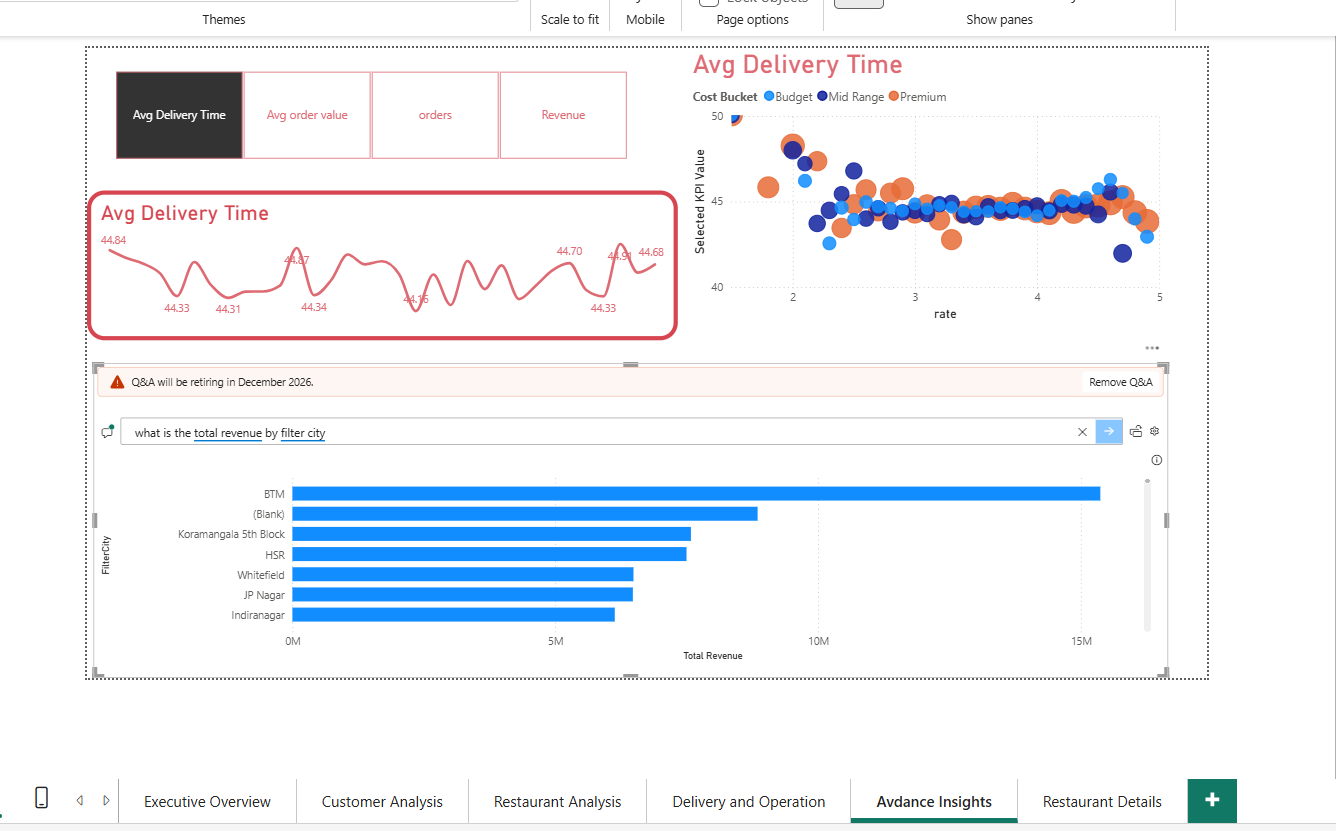

This screenshot's page, from the dashboard's own definition file:
{"tool":"powerbi","page":{"name":"Avdance Insights","canvas":[1280,720],"ordinal":4},"visuals":[{"type":"slicer","fields":{"Values":["KPI.KPI Name"]},"box":[6.7,20,633.3,113.3],"z":0},{"type":"lineChart","fields":{"Category":["DateTable.Date.Variation.Date Hierarchy.Year","DateTable.Date.Variation.Date Hierarchy.Month"],"Y":["Orders.Selected KPI Value"]},"box":[0,163.3,675.1,171.5],"z":1000},{"type":"scatterChart","fields":{"X":["Restaurant.rate"],"Size":["Avg(Restaurant.CostForTwo)"],"Series":["Restaurant.Cost Bucket"],"Y":["Orders.Selected KPI Value"]},"box":[686.7,0,547.5,317],"z":2000},{"type":"qnaVisual","box":[6.7,360,1228.3,360],"z":3000}]}

Visuals, with their boxes on the page's 1280x720 design canvas (x1, y1, x2, y2). These are canvas units, not pixel positions in the 1336x831 screenshot, which may show the page scaled, cropped or inside an application window:
slicer - KPI.KPI Name: region(7, 20, 640, 133)
lineChart - DateTable.Date.Variation.Date Hierarchy.Year x DateTable.Date.Variation.Date Hierarchy.Month: region(0, 163, 675, 335)
scatterChart - Restaurant.rate x Avg(Restaurant.CostForTwo): region(687, 0, 1234, 317)
qnaVisual: region(7, 360, 1235, 720)
